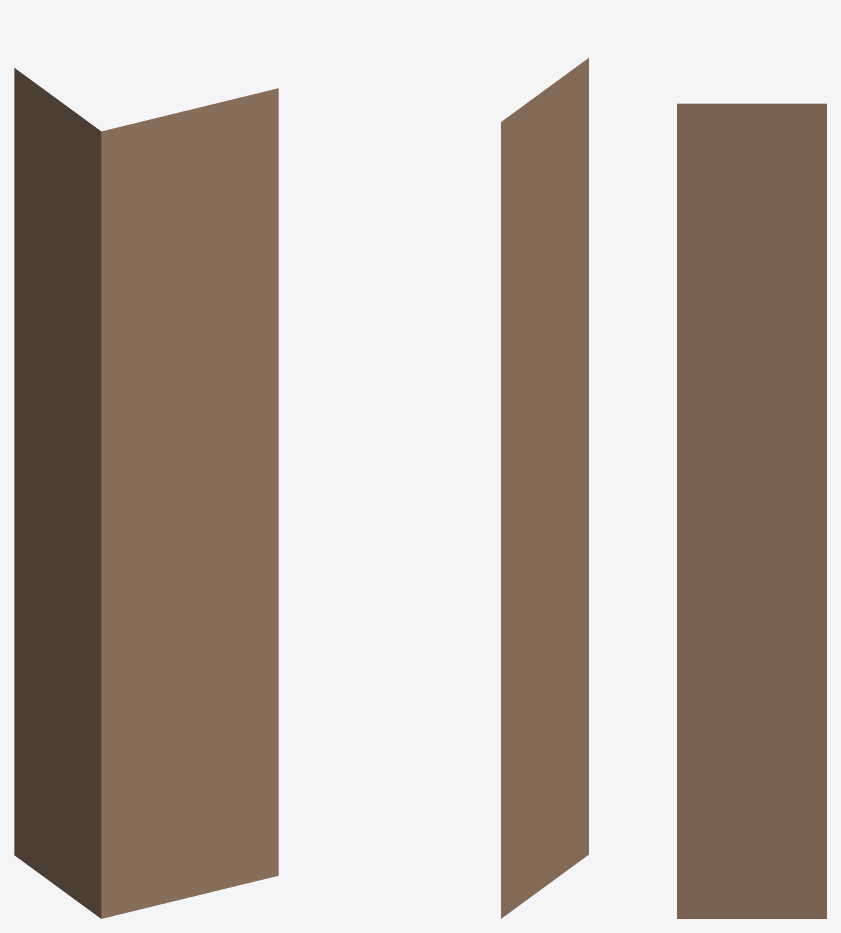
File: env_block_brick_top_trim_90_angle_r.glb
3 renders of one model, left to right at view 1: azimuth 30°, elevation 25°; view 2: azimuth 150°, elevation 25°; view 3: azimuth 270°, elevation 25°, orthographic. The views are drawn at different scales.
Parts seen in each view (by area): view 1: Brick_TopTrim_90Angle_R.gltf; view 2: Brick_TopTrim_90Angle_R.gltf; view 3: Brick_TopTrim_90Angle_R.gltf.
Boxes of the visible parts, box(x1,y1,x2,y2) form: Brick_TopTrim_90Angle_R.gltf: box(14, 68, 278, 918); Brick_TopTrim_90Angle_R.gltf: box(501, 58, 588, 918); Brick_TopTrim_90Angle_R.gltf: box(677, 103, 826, 918).
Bounding box in the file's own units: 0.7062 × 3 × 0.7.
